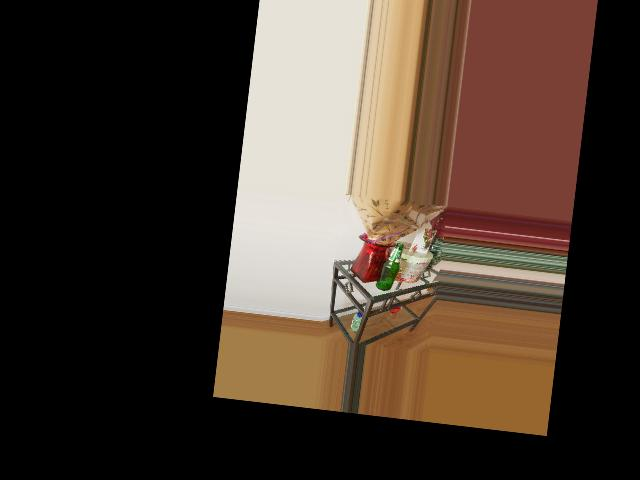beer: (375, 240, 404, 292)
